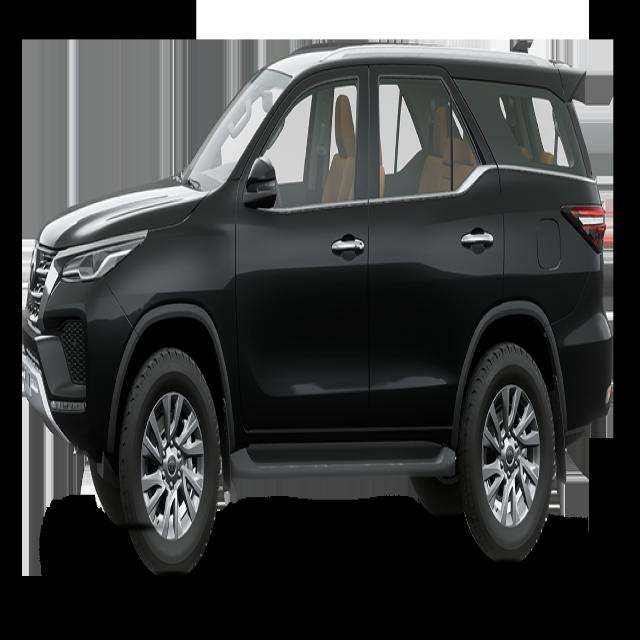light_vehicle: (22, 39, 612, 578)
